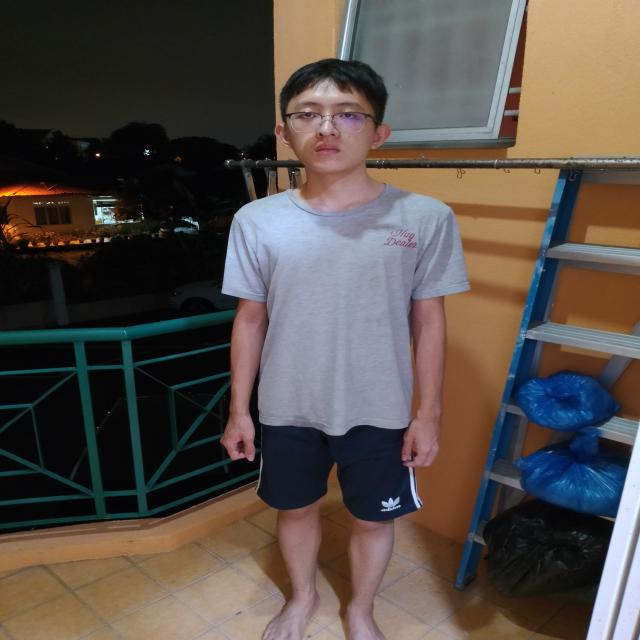person_without_labcoat: (222, 59, 468, 639)
